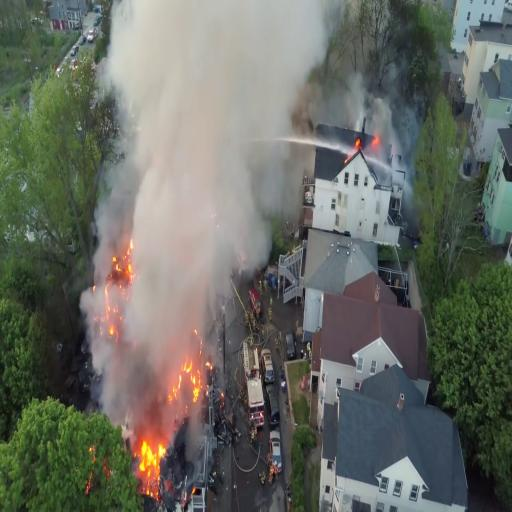fire: (165, 341, 204, 411), (130, 440, 164, 490), (112, 245, 132, 292)
smoke: (148, 0, 255, 260)
